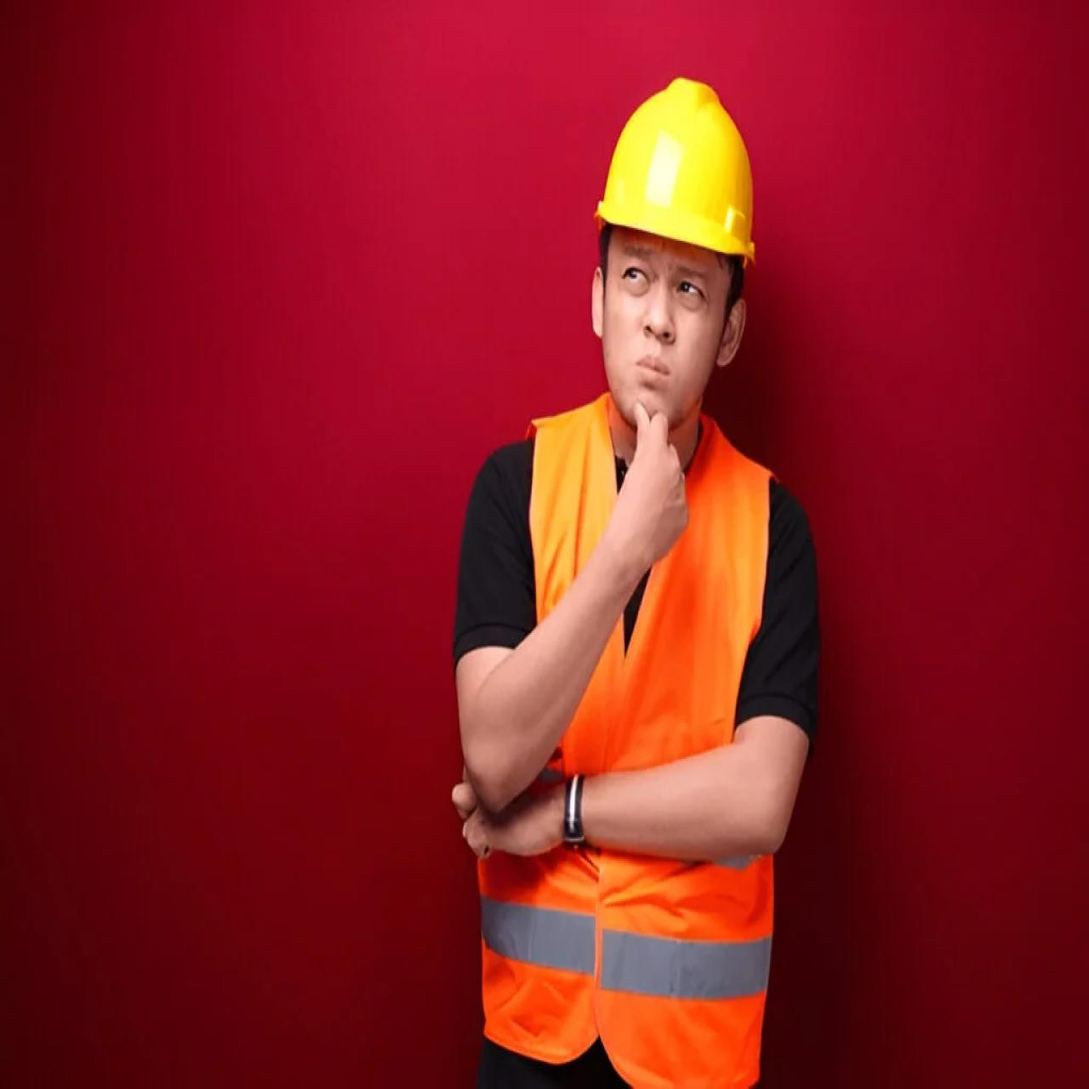Person: (432, 52, 828, 1089)
Safety_Vest: (461, 403, 791, 1078)
